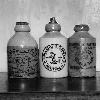beer: (6, 19, 40, 80)
